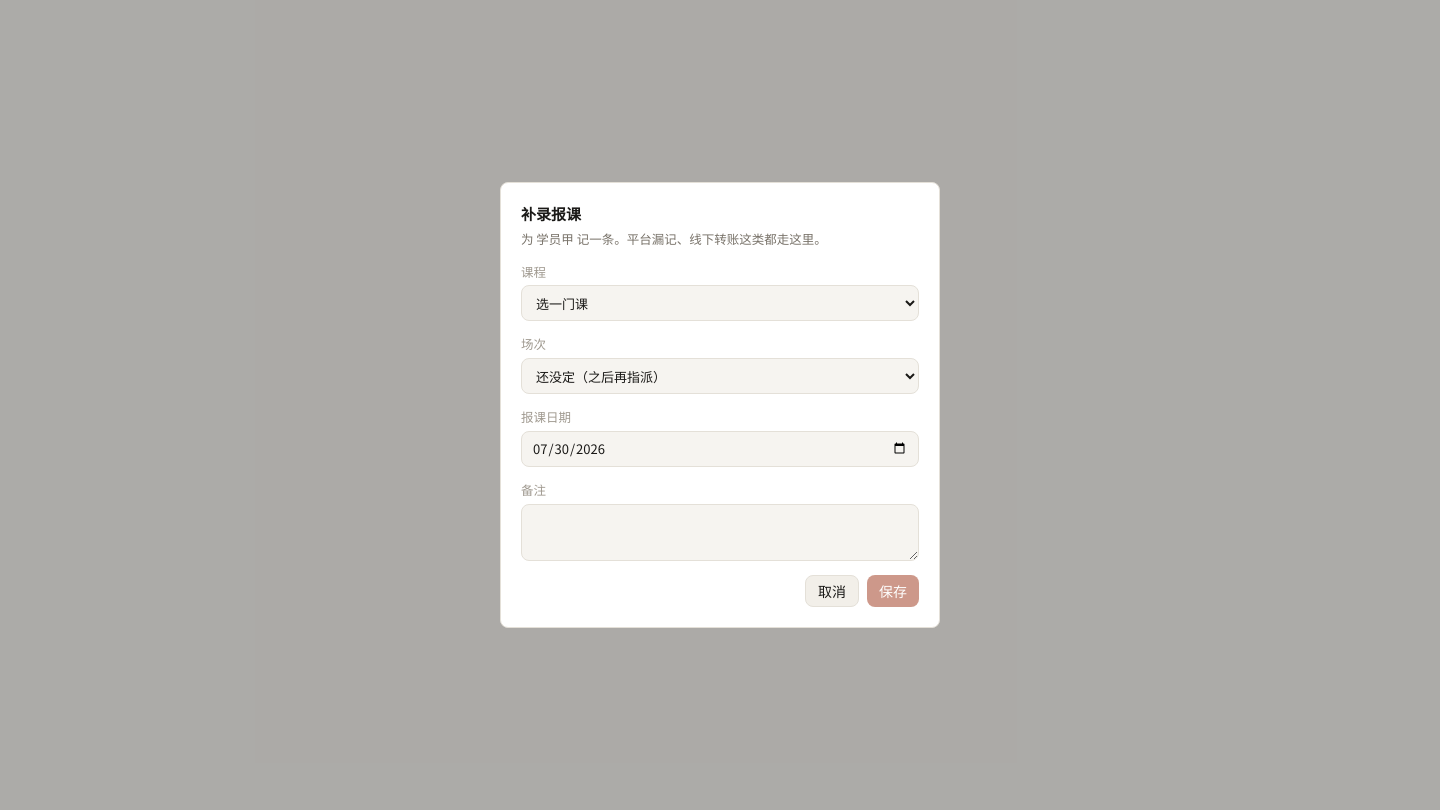
Test: EnrollmentModal › disables every exit while saving
Select "AI 炒股分析系统" in the dropdown labelled "课程": (720, 303) top-left (521, 285), bottom-right (919, 321)
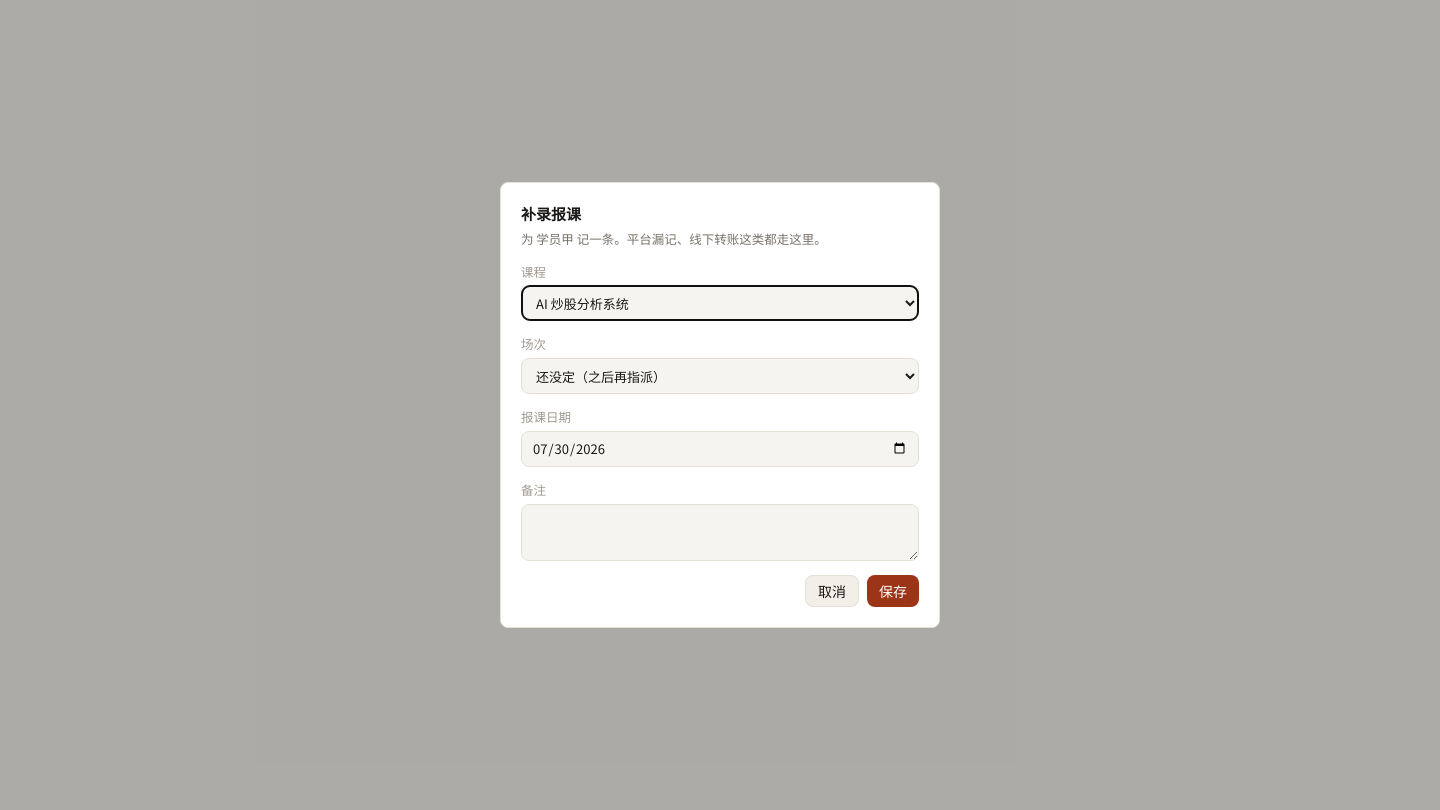
Click the button "保存": click(893, 591) top-left (867, 575), bottom-right (919, 607)
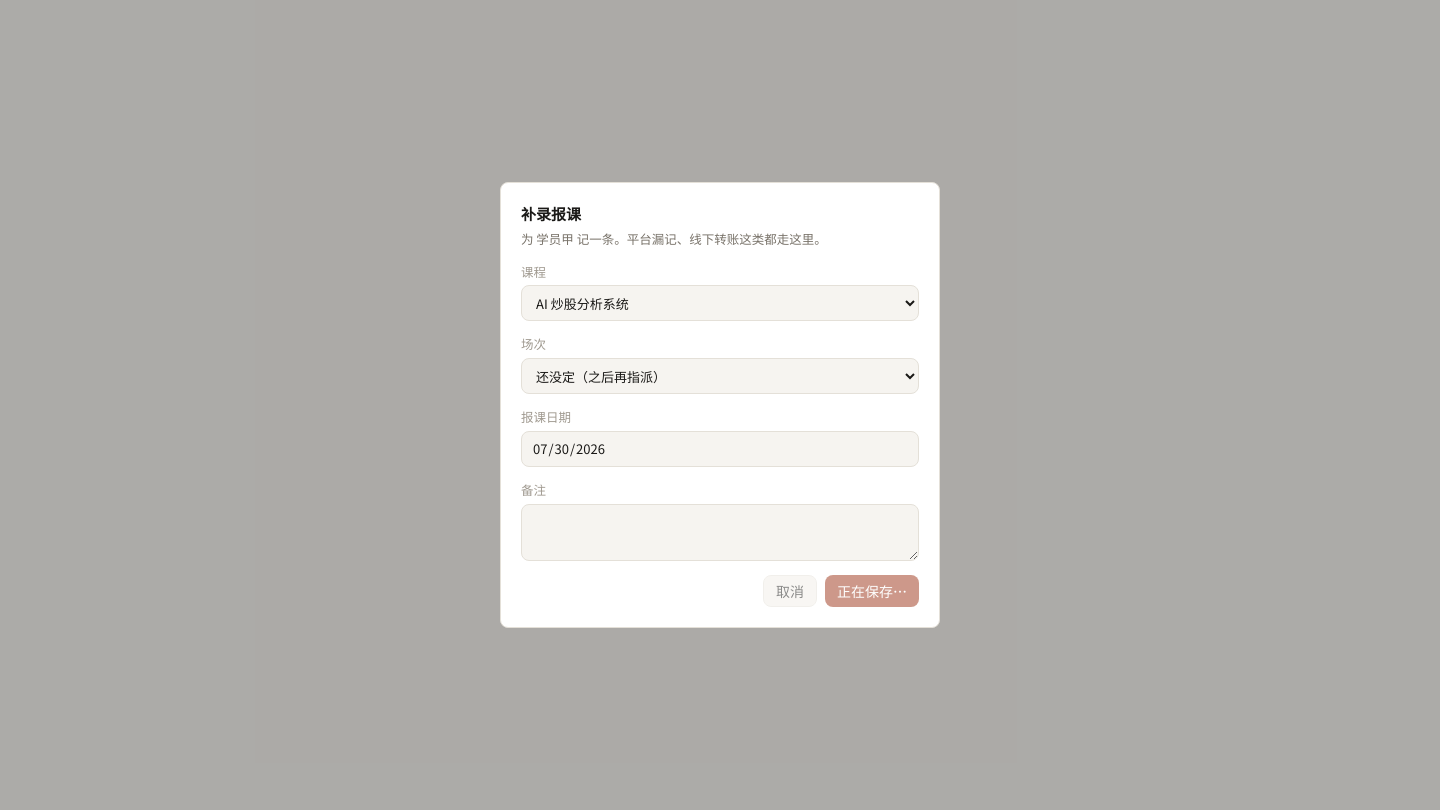
Expected: the button "取消" is disabled, top-left (763, 575), bottom-right (817, 607)
Expected: the button "正在保存…" is disabled, top-left (825, 575), bottom-right (919, 607)
